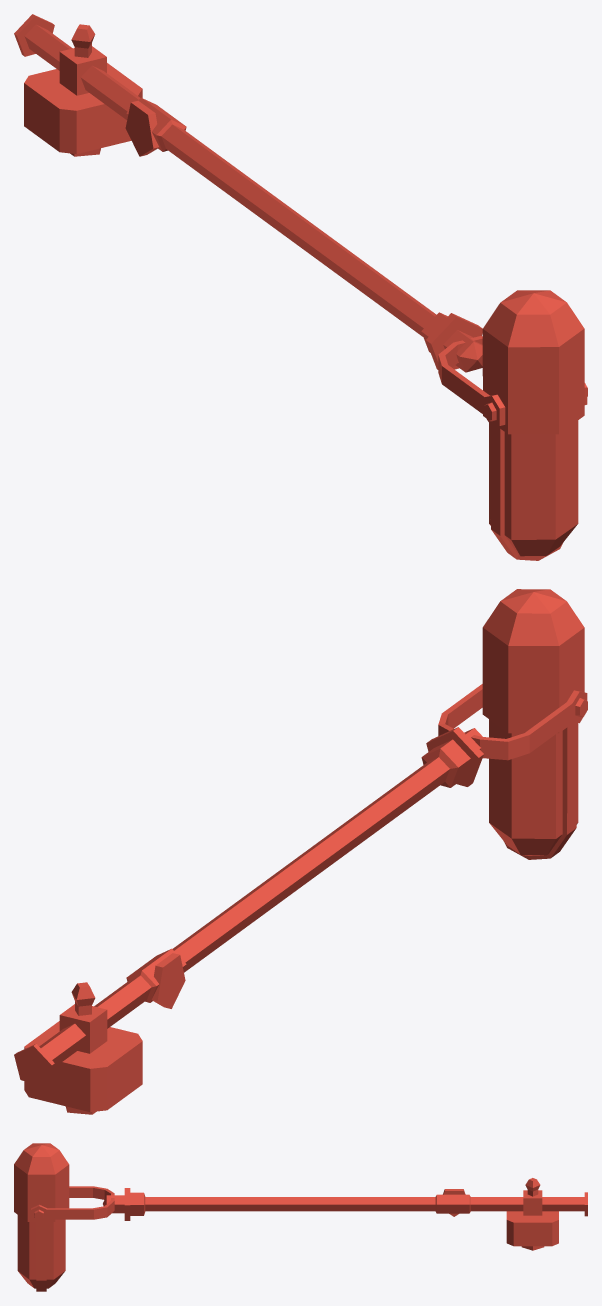
The model's file is SM_Microphone_Tripod_Microphone.fbx.
3 views of the same model, one above another, from view 1: azimuth 30°, elevation 25°; view 2: azimuth 150°, elevation 25°; view 3: azimuth 270°, elevation 25° (orthographic). The views are drawn at different scales.
Visible parts, largest first — view 1: SM_Microphone_Tripod_Microphone; view 2: SM_Microphone_Tripod_Microphone; view 3: SM_Microphone_Tripod_Microphone.
Boxes of the visible parts, left/top/right/bottom form: SM_Microphone_Tripod_Microphone: left=14, top=14, right=587, bottom=560; SM_Microphone_Tripod_Microphone: left=14, top=589, right=587, bottom=1114; SM_Microphone_Tripod_Microphone: left=14, top=1143, right=587, bottom=1291.
Bounding box in the file's own units: 96.19 × 10.15 × 26.68.
